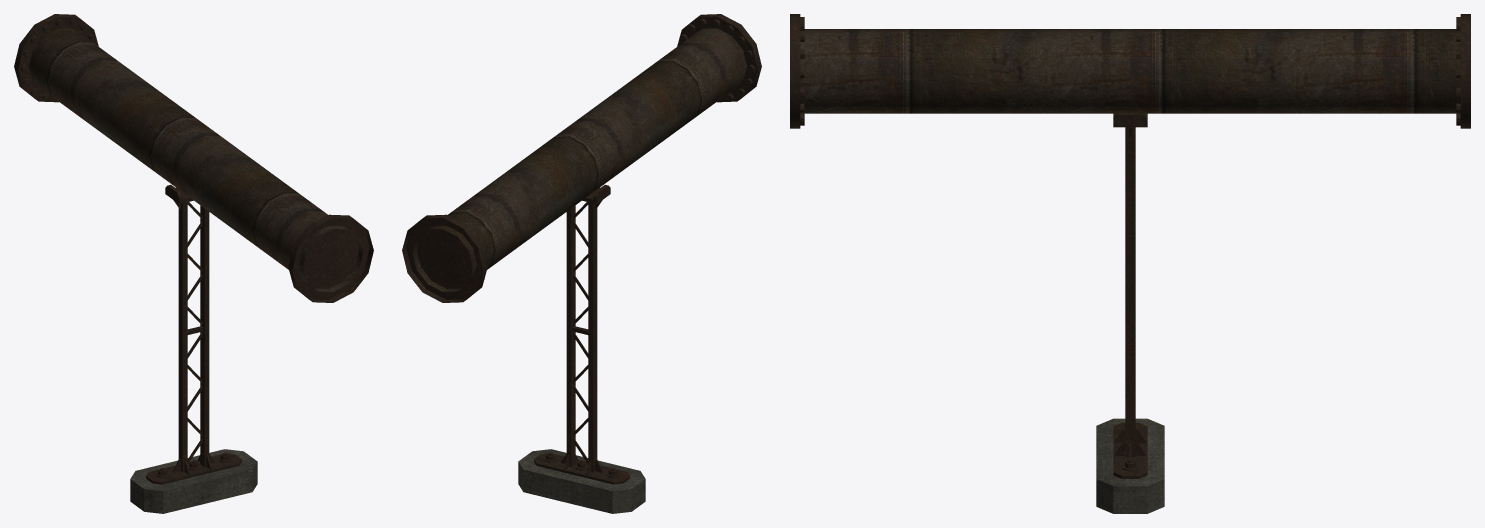
Rendered from pipe_cx_1.obj.
The picture shows the model from 3 angles, left to right: view 1: azimuth 30°, elevation 25°; view 2: azimuth 150°, elevation 25°; view 3: azimuth 270°, elevation 25°; orthographic projection. The views are drawn at different scales.
Parts seen in each view (by area): view 1: pipe_cx_1; view 2: pipe_cx_1; view 3: pipe_cx_1.
Boxes of the visible parts, x1=… form: pipe_cx_1: x1=14, y1=14, x2=373, y2=513; pipe_cx_1: x1=402, y1=14, x2=761, y2=513; pipe_cx_1: x1=790, y1=14, x2=1470, y2=513.
Size of the model in its own units: 0.94 by 2.99 by 4.
